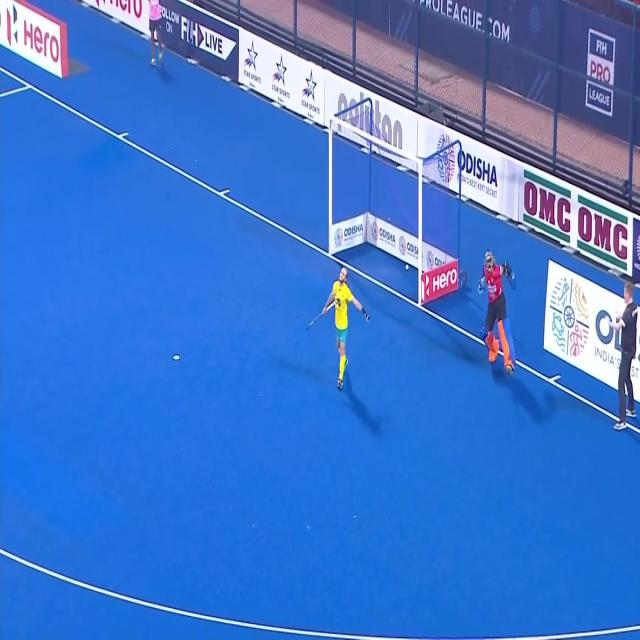ball: (405, 263, 409, 271)
